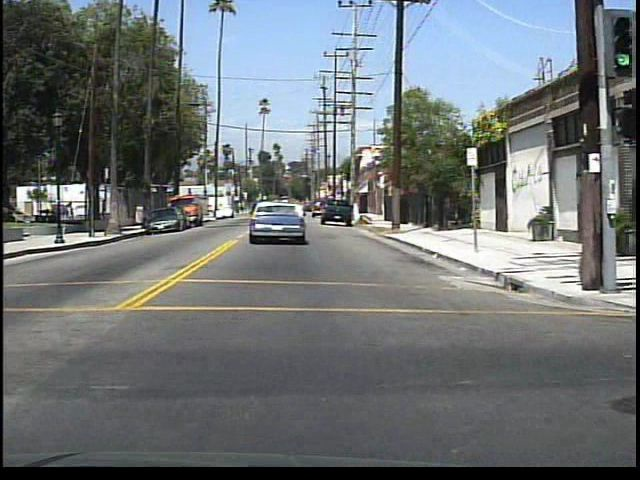person: (135, 201, 148, 229), (98, 196, 112, 221), (65, 198, 78, 223)
